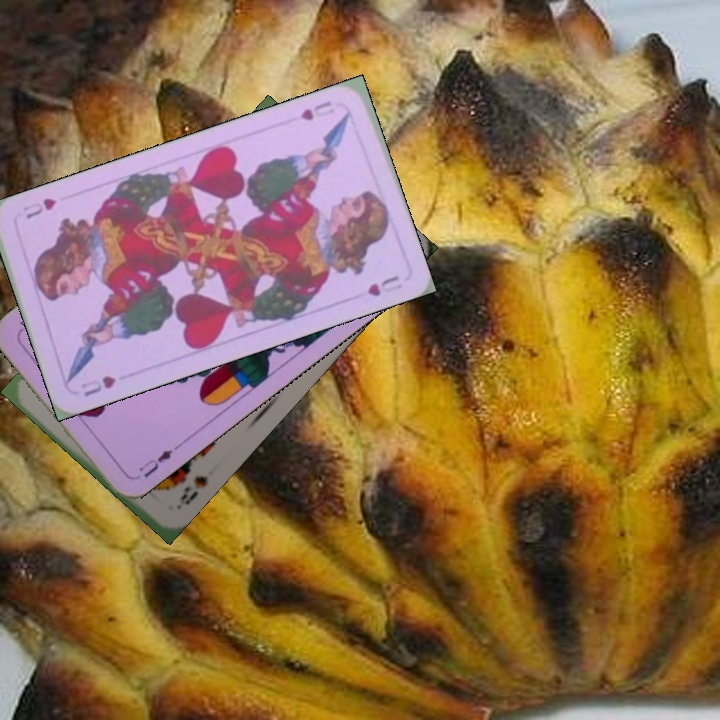EU: (134, 445, 175, 481)
HU: (77, 371, 119, 399), (297, 97, 337, 124)
S8: (172, 471, 211, 512)
